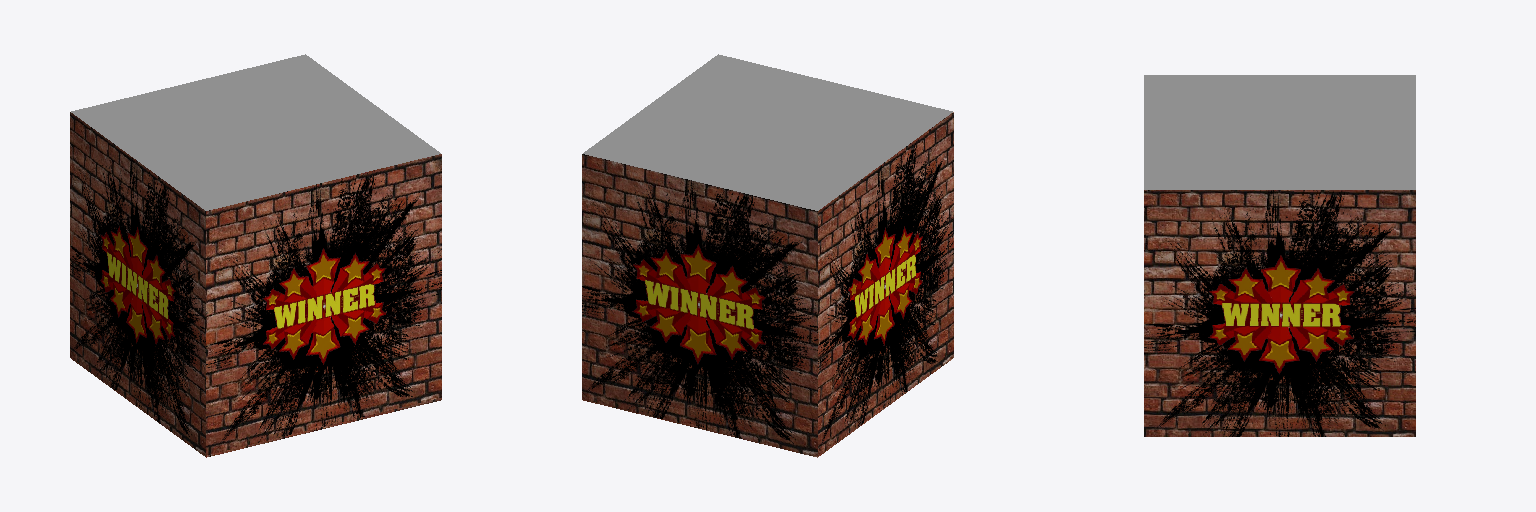
3 views of the same model, side by side, from view 1: azimuth 30°, elevation 25°; view 2: azimuth 150°, elevation 25°; view 3: azimuth 270°, elevation 25° (orthographic).
Visible parts, largest first — view 1: Cube; view 2: Cube; view 3: Cube.
Boxes of the visible parts, x1=… form: Cube: x1=70, y1=54, x2=441, y2=457; Cube: x1=582, y1=54, x2=953, y2=457; Cube: x1=1144, y1=75, x2=1415, y2=436.
Size of the model in its own units: 2 by 2 by 2.
2 materials, 1 textured.